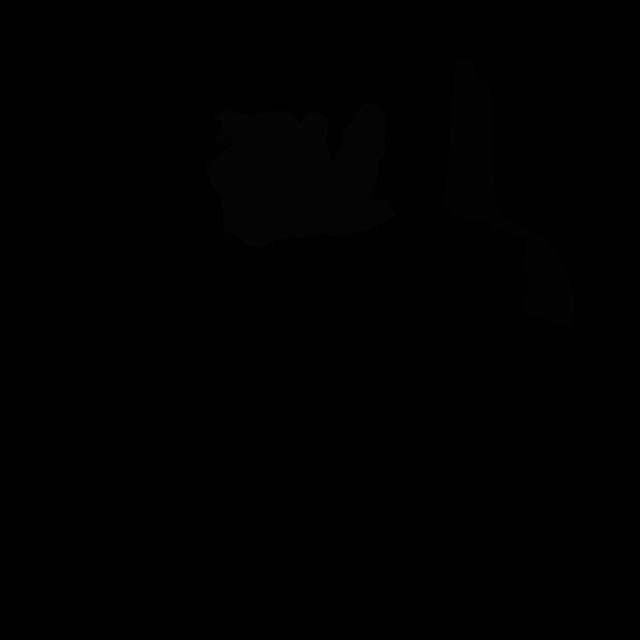cardboard: (443, 57, 503, 231), (498, 213, 575, 329)
soft_plastic: (206, 103, 395, 247)
